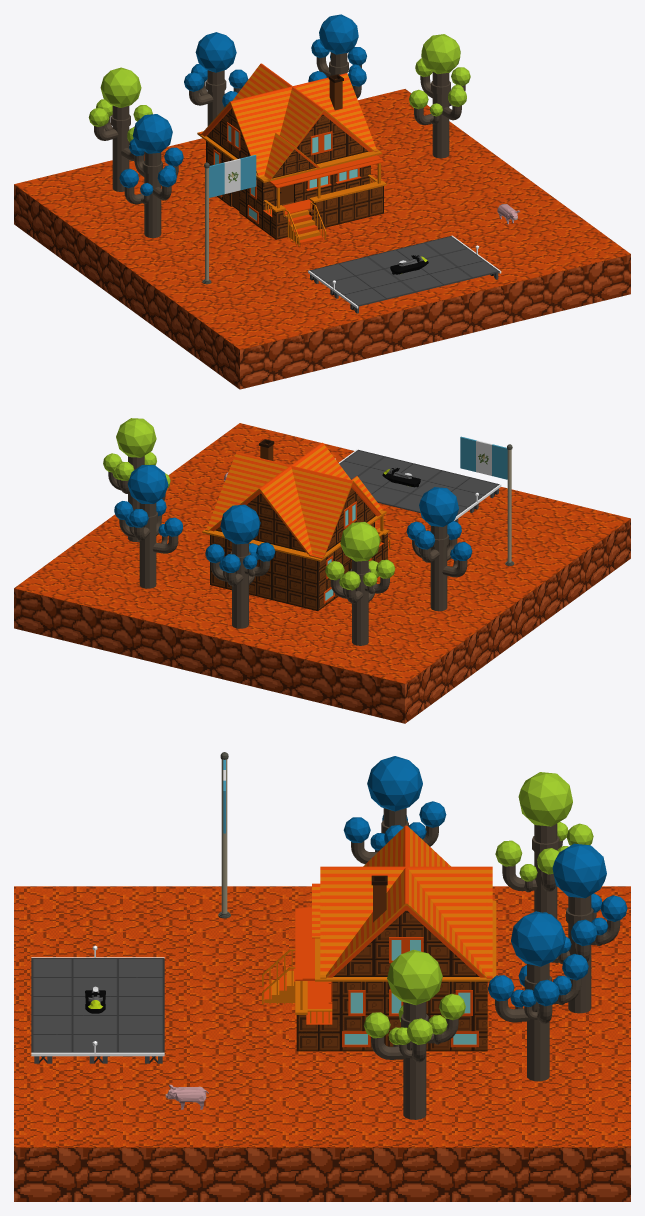
3 renders of one model, top to bottom at view 1: azimuth 30°, elevation 25°; view 2: azimuth 150°, elevation 25°; view 3: azimuth 270°, elevation 25°, orthographic. The views are drawn at different scales.
Visible parts, largest first — view 1: Cube.001, Cube, OBJRANDOM_GUATEMALAN_FLAG; view 2: Cube.001, Cube, OBJRANDOM_GUATEMALAN_FLAG, VEHICLES_WATERBIKE; view 3: Cube.001, Cube, OBJRANDOM_GUATEMALAN_FLAG, ANIMAL_CERDO.
Part boxes in pixels (x1,y1,x2,y2): Cube.001: (14,14,630,389); Cube: (197,63,386,246); OBJRANDOM_GUATEMALAN_FLAG: (202,155,256,284); Cube.001: (14,418,630,723); Cube: (202,439,390,611); OBJRANDOM_GUATEMALAN_FLAG: (460,436,514,565); VEHICLES_WATERBIKE: (382,467,420,487); Cube.001: (14,756,630,1201); Cube: (262,825,496,1051); OBJRANDOM_GUATEMALAN_FLAG: (218,752,230,918); ANIMAL_CERDO: (165,1084,208,1109).
Size of the model in its own units: 4000 by 1680 by 4000.
Materials: 32 (5 with a texture image).
